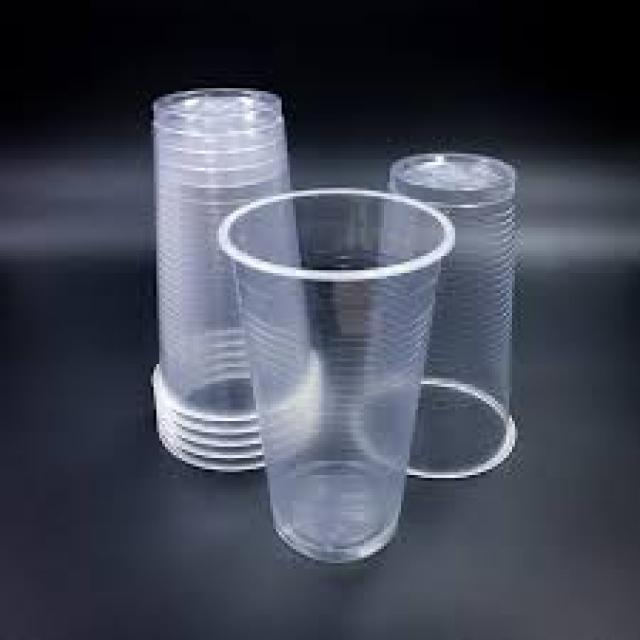cup: (223, 177, 447, 584)
